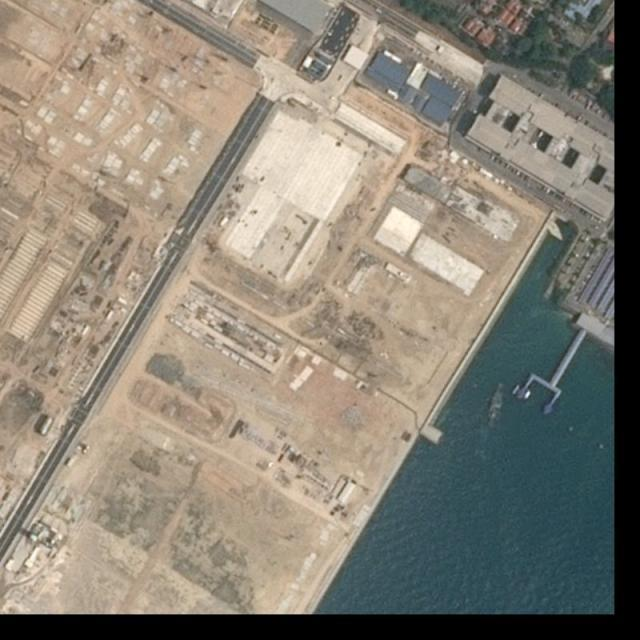ship: (487, 382, 504, 429), (511, 384, 522, 396), (523, 389, 533, 401)
